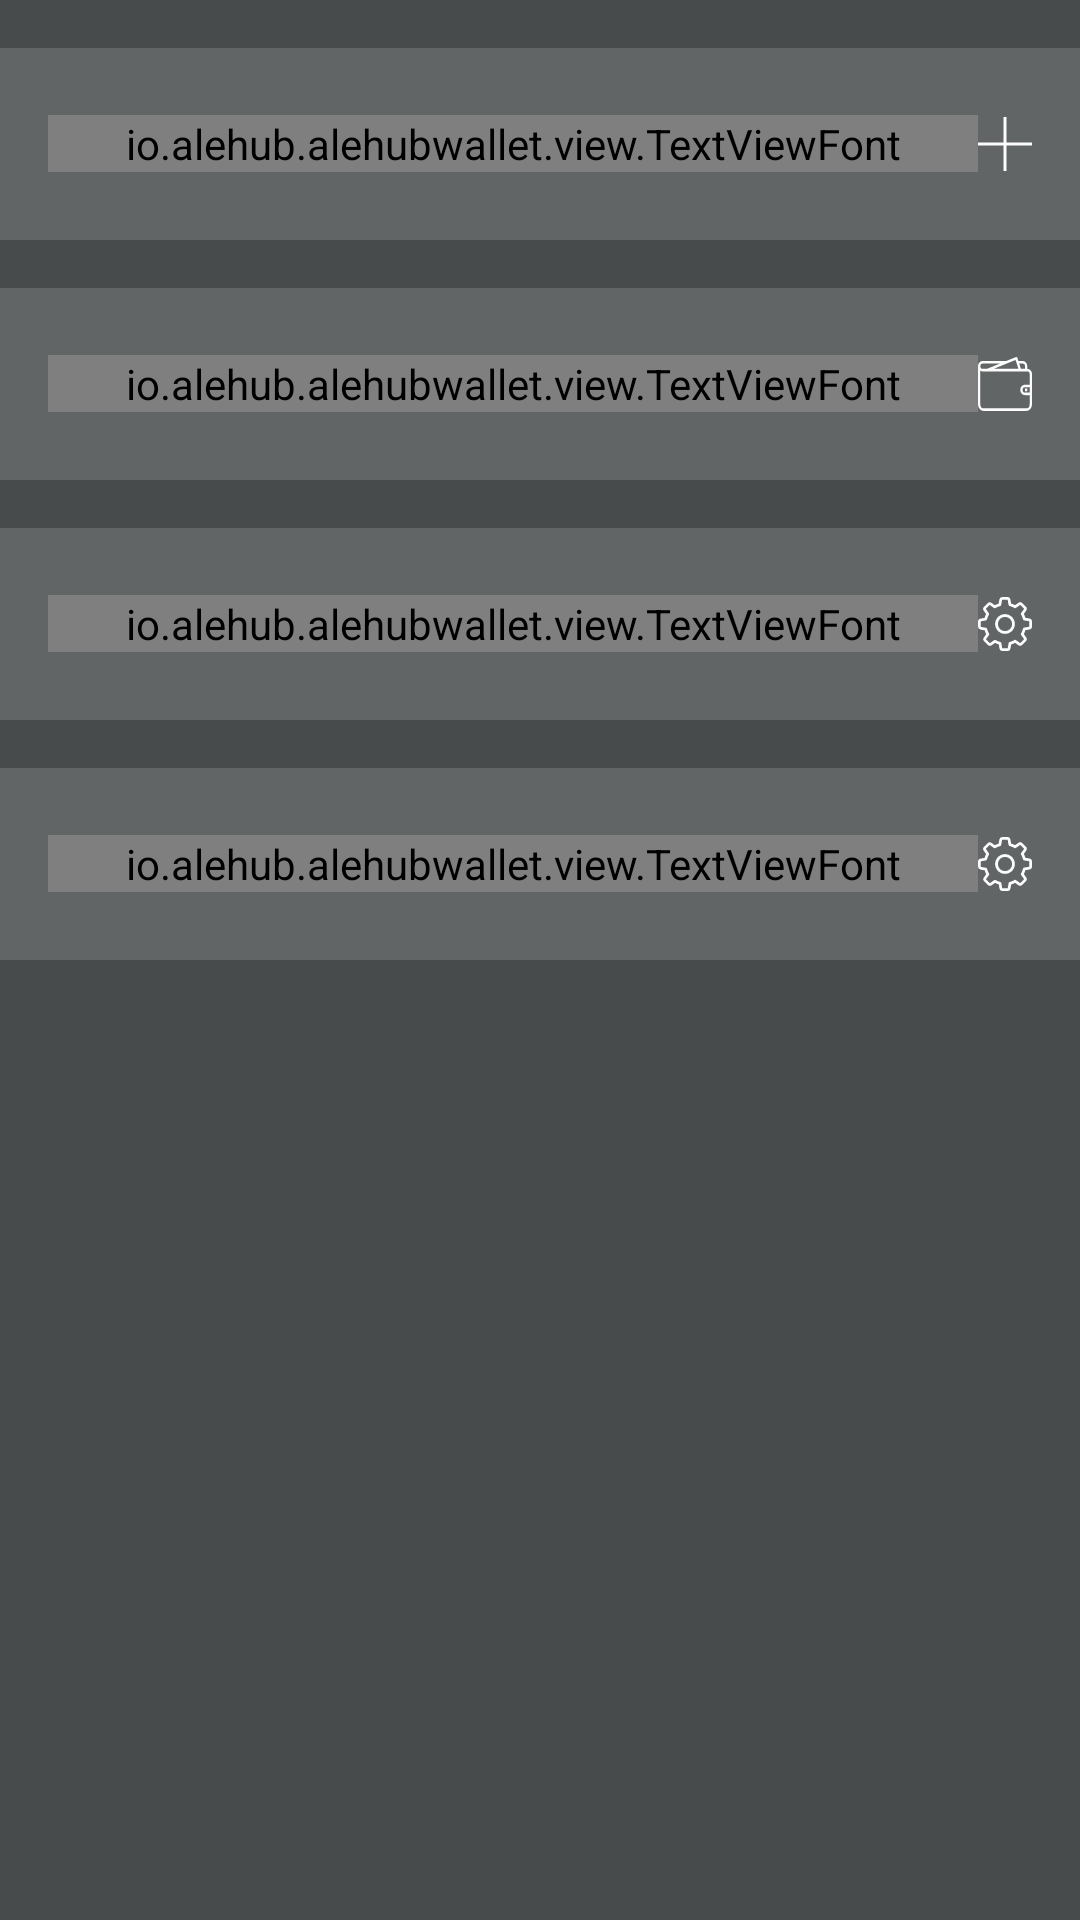

Icons on this 1080x1920 Android screen, each with its box as (x1, y1, x2, y2):
add: (978, 117, 1032, 171)
settings: (978, 597, 1032, 651), (978, 837, 1032, 891)
